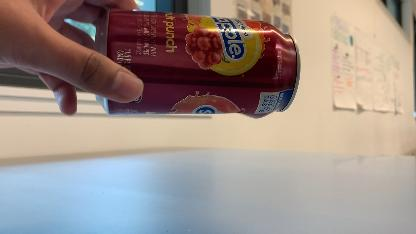Can: (92, 11, 302, 126)
